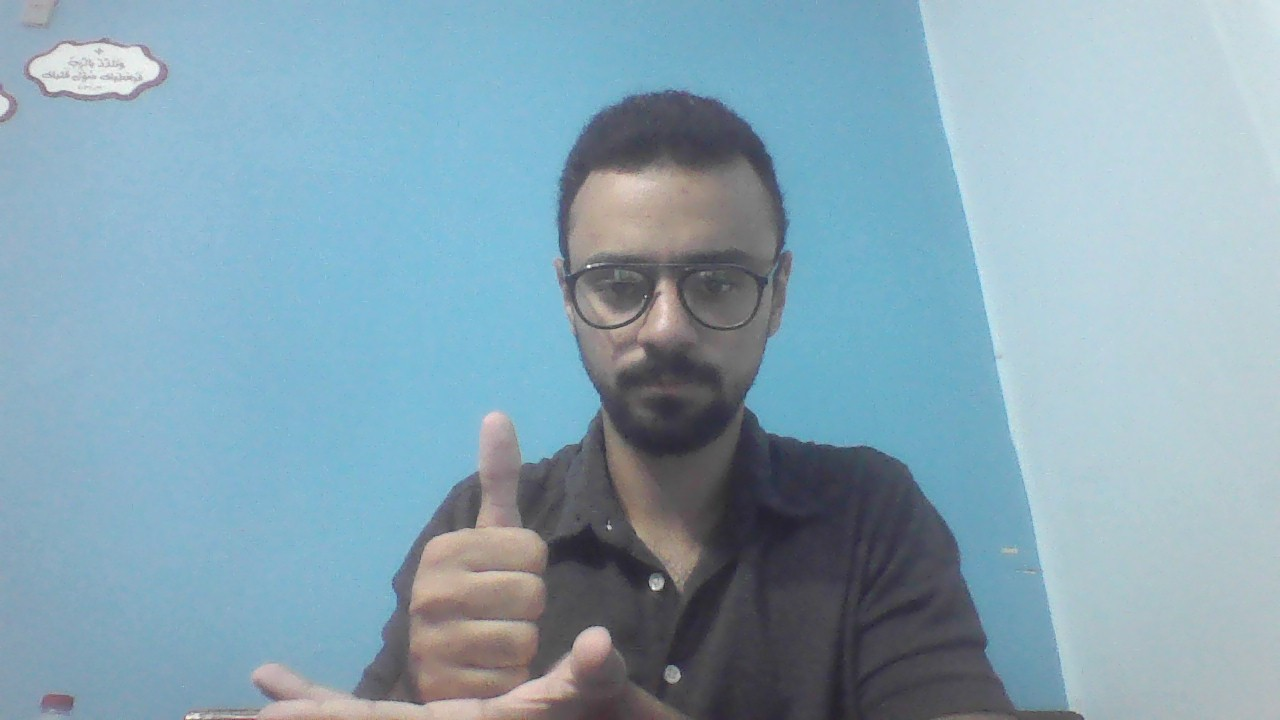help: (248, 404, 632, 720)
